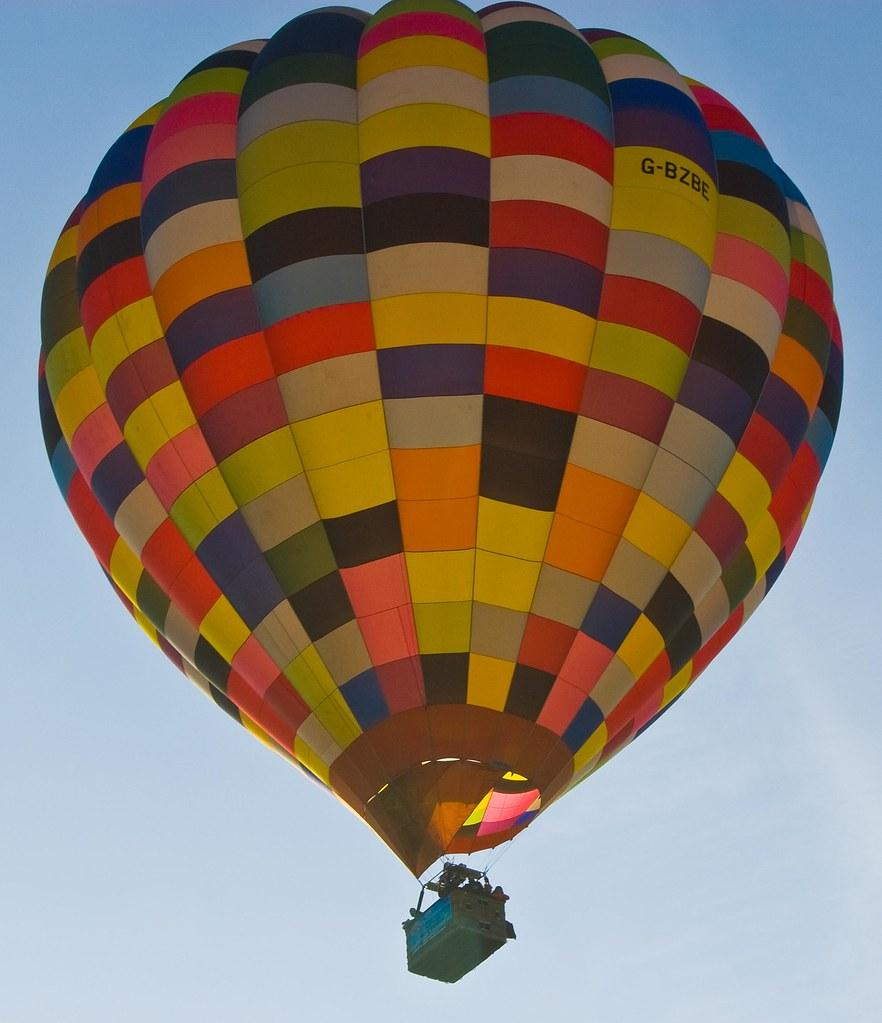balloon: (37, 1, 846, 979)
